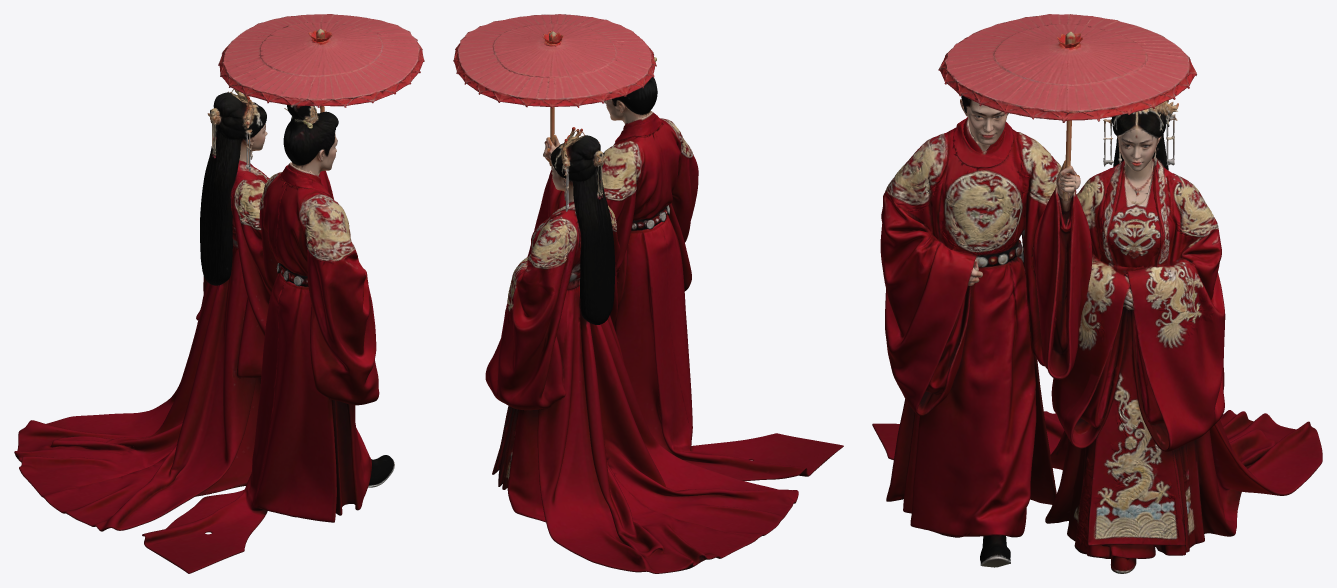
Rendered from dress.glb.
3 renders of one model, left to right at view 1: azimuth 30°, elevation 25°; view 2: azimuth 150°, elevation 25°; view 3: azimuth 270°, elevation 25°, orthographic. The views are drawn at different scales.
Parts seen in each view (by area): view 1: tripo_node_23195a3a-f366-49e5-af30-69891cc2860e; view 2: tripo_node_23195a3a-f366-49e5-af30-69891cc2860e; view 3: tripo_node_23195a3a-f366-49e5-af30-69891cc2860e.
Boxes of the visible parts, x1,y1,x2,y2 form: tripo_node_23195a3a-f366-49e5-af30-69891cc2860e: (14, 14, 424, 573); tripo_node_23195a3a-f366-49e5-af30-69891cc2860e: (453, 14, 843, 573); tripo_node_23195a3a-f366-49e5-af30-69891cc2860e: (872, 14, 1322, 573).
Bounding box in the file's own units: 0.0709 × 0.0881 × 0.0685.
Materials: 1 (1 with a texture image).
